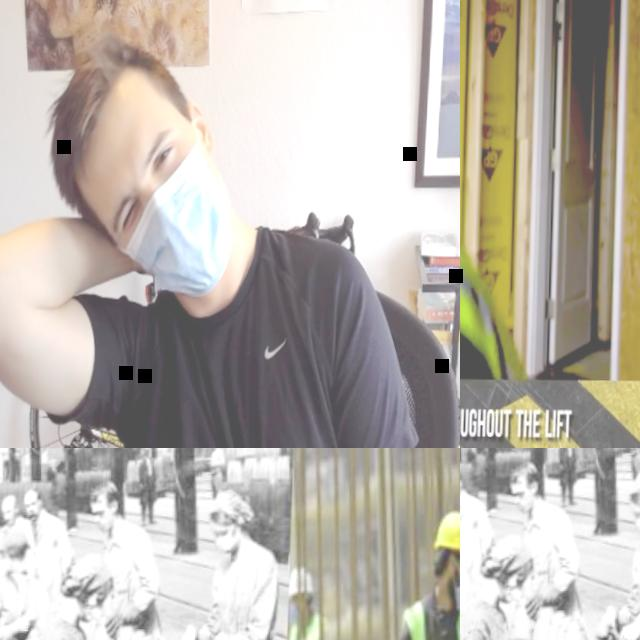Hardhat: (428, 513, 460, 560), (292, 567, 318, 600)
Mask: (118, 145, 233, 296), (216, 534, 238, 553), (82, 603, 102, 623), (502, 584, 522, 604), (290, 602, 303, 625), (12, 559, 28, 574), (95, 518, 112, 532), (515, 499, 532, 513), (454, 575, 460, 606)
NO-Hardhat: (47, 35, 143, 198), (63, 554, 116, 593), (483, 535, 536, 574), (207, 489, 253, 523), (0, 529, 33, 557), (89, 480, 121, 504), (509, 461, 541, 485), (627, 470, 640, 503), (22, 487, 42, 503), (2, 493, 18, 507), (141, 448, 151, 452)
NO-Safety Vest: (130, 241, 359, 448), (210, 547, 259, 630), (101, 528, 143, 598), (521, 509, 563, 579), (460, 598, 513, 640), (25, 517, 57, 571), (0, 566, 23, 640), (460, 498, 477, 552), (629, 528, 640, 610), (139, 460, 156, 481), (6, 520, 28, 534), (208, 451, 223, 470), (559, 448, 576, 462)
Person: (0, 33, 432, 448), (460, 0, 536, 377), (193, 489, 280, 640), (84, 478, 167, 631), (504, 459, 587, 612), (460, 531, 557, 640), (382, 505, 460, 640), (27, 550, 137, 640), (613, 470, 640, 640), (21, 486, 75, 569), (285, 570, 344, 640), (0, 529, 32, 640), (460, 466, 495, 549), (135, 448, 158, 525), (555, 448, 578, 506), (0, 494, 30, 527), (208, 448, 228, 495), (628, 448, 640, 476)
Safety Vest: (460, 194, 528, 379), (288, 619, 331, 640)
